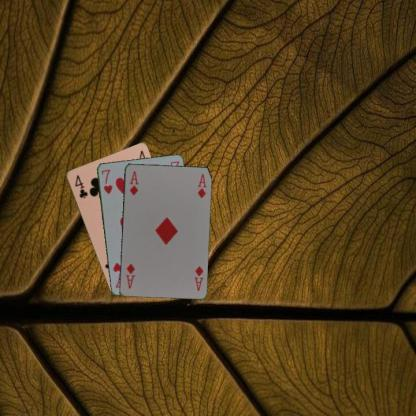4c: (72, 172, 89, 200)
7h: (98, 167, 113, 195)
Ad: (126, 168, 140, 197), (191, 263, 205, 292)
